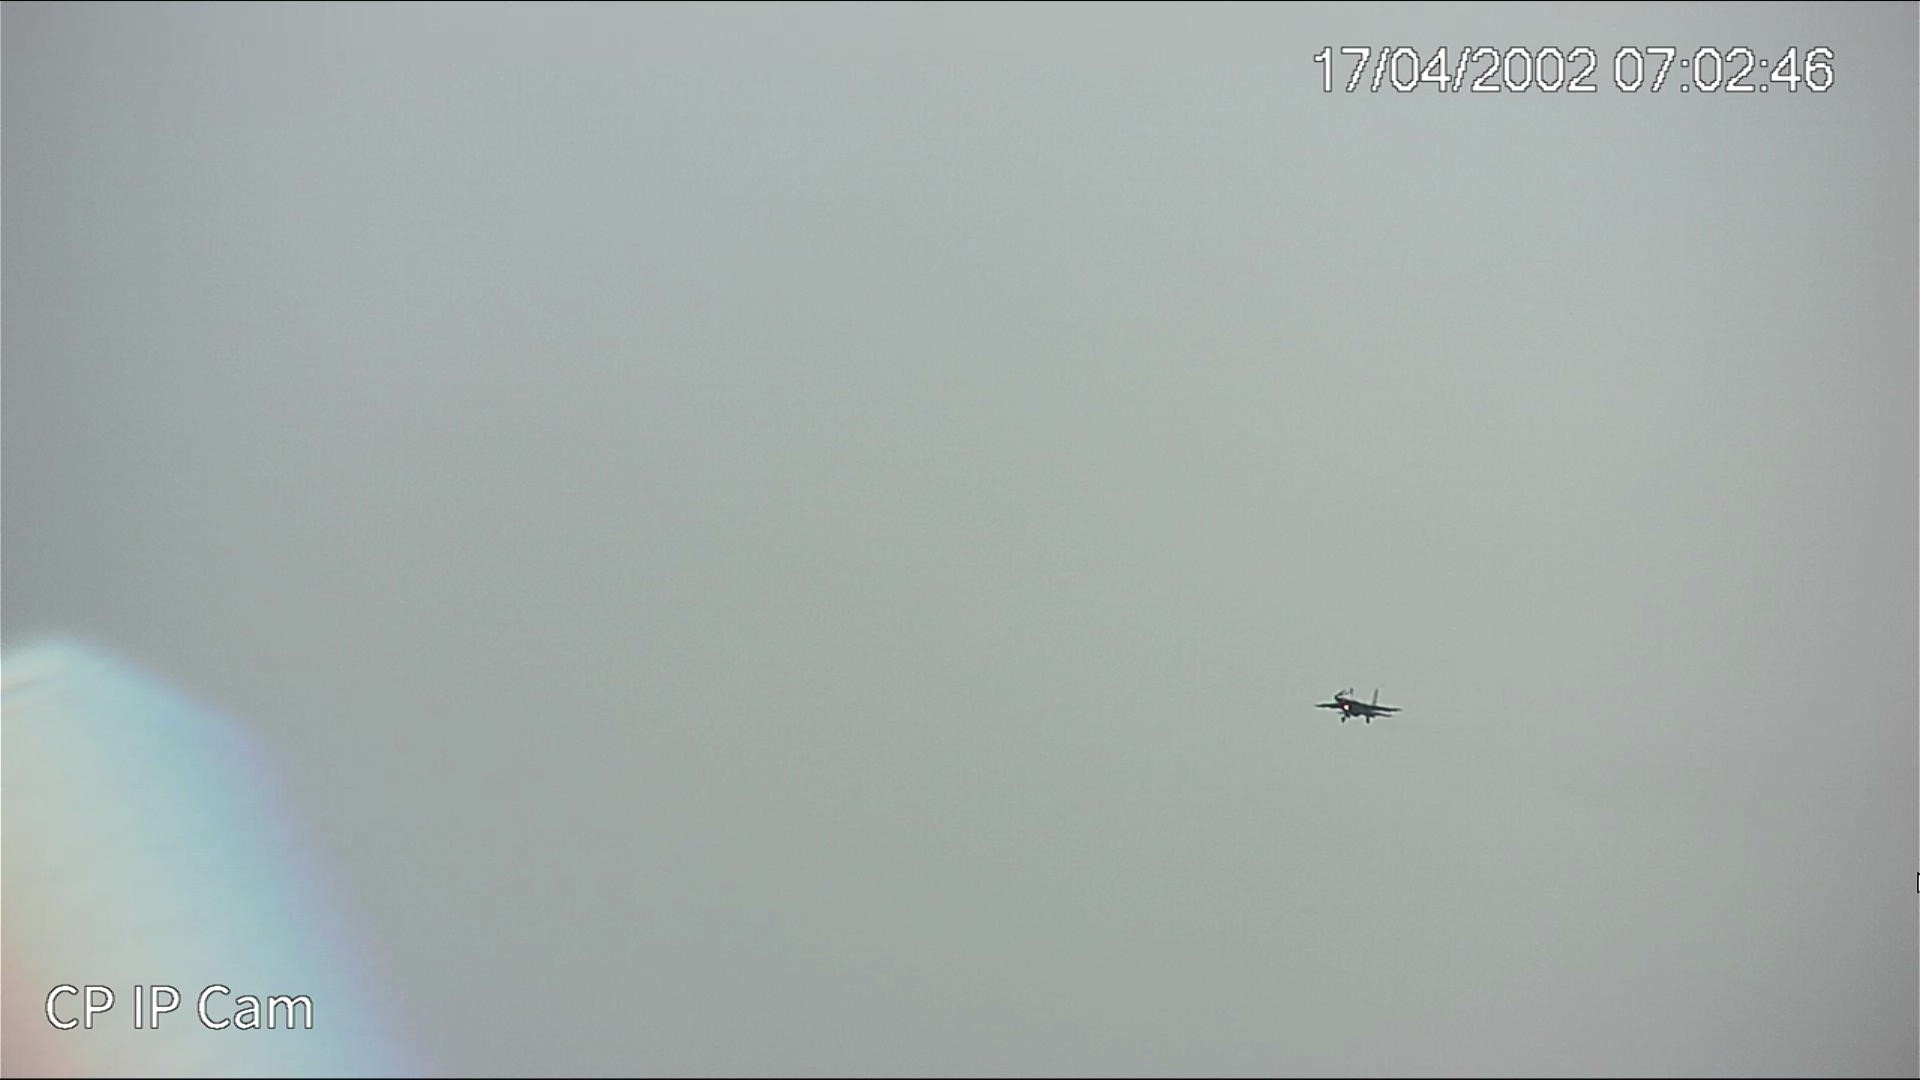SU_30: (1320, 686, 1399, 723)
